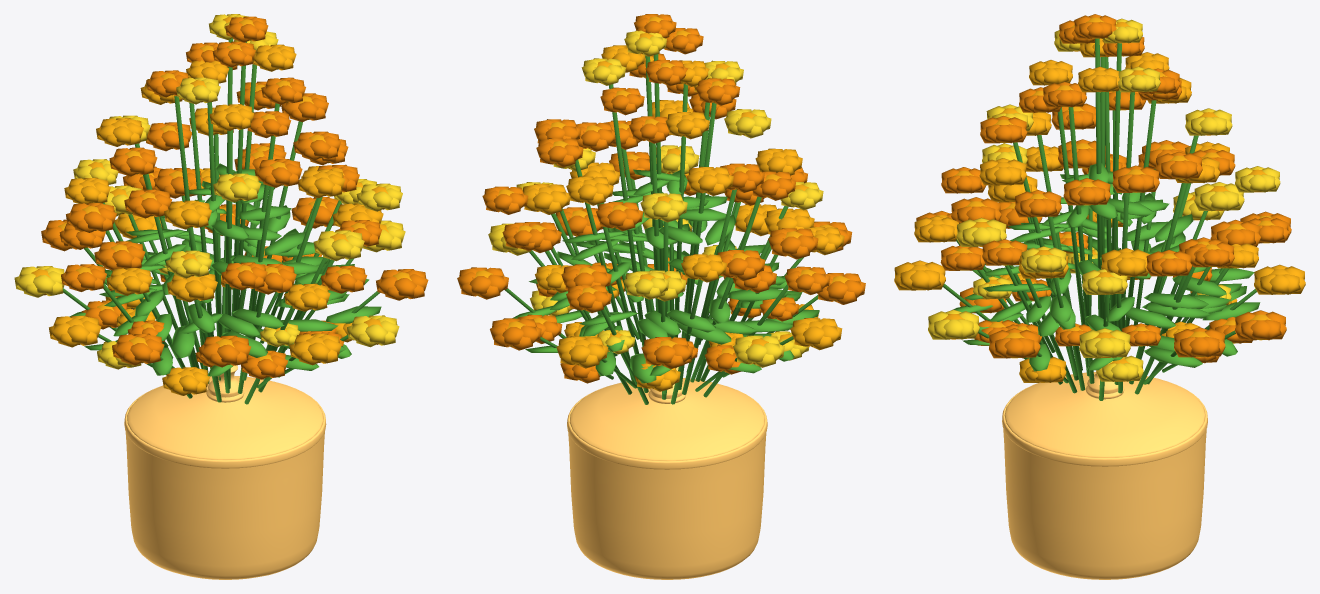
The model's file is floor-marigold-clusters.glb.
The picture shows the model from 3 angles, left to right: view 1: azimuth 30°, elevation 25°; view 2: azimuth 150°, elevation 25°; view 3: azimuth 270°, elevation 25°; orthographic projection. The views are drawn at different scales.
Visible parts, largest first — view 1: CC0_Brass_01, BS_MehndiStem_42, BS_MehndiStem_44, BS_MehndiStem_36, BS_MehndiStem_32, BS_MehndiStem_30, BS_MehndiStem_34, BS_MehndiStem_26, BS_FinalFillLeaf_19, BS_LowerLeaf_12, BS_FinalFillLeaf_11, BS_MehndiStem_22 (+2 smaller); view 2: CC0_Brass_01, BS_MehndiStem_30, BS_MehndiStem_34, BS_MehndiStem_22, BS_MehndiStem_42, BS_MehndiStem_18, BS_MehndiStem_16, BS_MehndiLeafA_06, BS_MehndiStem_44, BS_FinalFillLeaf_17, BS_MehndiStem_36, BS_MehndiStem_32; view 3: CC0_Brass_01, BS_MehndiStem_44, BS_MehndiStem_36, BS_MehndiStem_38, BS_MehndiStem_40, BS_MehndiStem_32, BS_FinalFillLeaf_13, BS_MehndiStem_34, BS_FinalFillLeaf_01, BS_MehndiLeafA_01, BS_MehndiLeafA_02, BS_MehndiStem_18 (+3 smaller).
Part boxes in pixels (bbox=[...]): CC0_Brass_01: bbox=[124, 365, 326, 579]; BS_MehndiStem_42: bbox=[207, 102, 221, 380]; BS_MehndiStem_44: bbox=[231, 42, 246, 330]; BS_MehndiStem_36: bbox=[226, 130, 232, 388]; BS_MehndiStem_32: bbox=[189, 102, 213, 336]; BS_MehndiStem_30: bbox=[236, 64, 256, 332]; BS_MehndiStem_34: bbox=[174, 96, 209, 383]; BS_MehndiStem_26: bbox=[238, 186, 273, 393]; BS_FinalFillLeaf_19: bbox=[232, 308, 284, 328]; BS_LowerLeaf_12: bbox=[171, 325, 194, 357]; BS_FinalFillLeaf_11: bbox=[326, 306, 381, 323]; BS_MehndiStem_22: bbox=[144, 174, 195, 367]; CC0_Brass_01: bbox=[567, 367, 767, 579]; BS_MehndiStem_30: bbox=[609, 84, 645, 346]; BS_MehndiStem_34: bbox=[678, 102, 716, 389]; BS_MehndiStem_22: bbox=[682, 189, 736, 394]; BS_MehndiStem_42: bbox=[673, 84, 687, 367]; BS_MehndiStem_18: bbox=[597, 203, 648, 392]; BS_MehndiStem_16: bbox=[575, 159, 635, 384]; BS_MehndiLeafA_06: bbox=[667, 309, 716, 332]; BS_MehndiStem_44: bbox=[653, 54, 663, 270]; BS_FinalFillLeaf_17: bbox=[726, 287, 790, 301]; BS_MehndiStem_36: bbox=[681, 102, 709, 337]; BS_MehndiStem_32: bbox=[651, 142, 661, 313]; CC0_Brass_01: bbox=[1002, 370, 1207, 579]; BS_MehndiStem_44: bbox=[1095, 38, 1102, 318]; BS_MehndiStem_36: bbox=[1057, 107, 1089, 376]; BS_MehndiStem_38: bbox=[1068, 107, 1094, 383]; BS_MehndiStem_40: bbox=[1109, 43, 1121, 324]; BS_MehndiStem_32: bbox=[1124, 100, 1156, 327]; BS_FinalFillLeaf_13: bbox=[1144, 293, 1208, 308]; BS_MehndiStem_34: bbox=[1105, 57, 1111, 322]; BS_FinalFillLeaf_01: bbox=[1144, 347, 1202, 367]; BS_MehndiLeafA_01: bbox=[1125, 307, 1175, 328]; BS_MehndiLeafA_02: bbox=[1142, 302, 1209, 318]; BS_MehndiStem_18: bbox=[1129, 183, 1187, 384].
Size of the model in its own units: 0.6804 by 0.9785 by 0.679.
